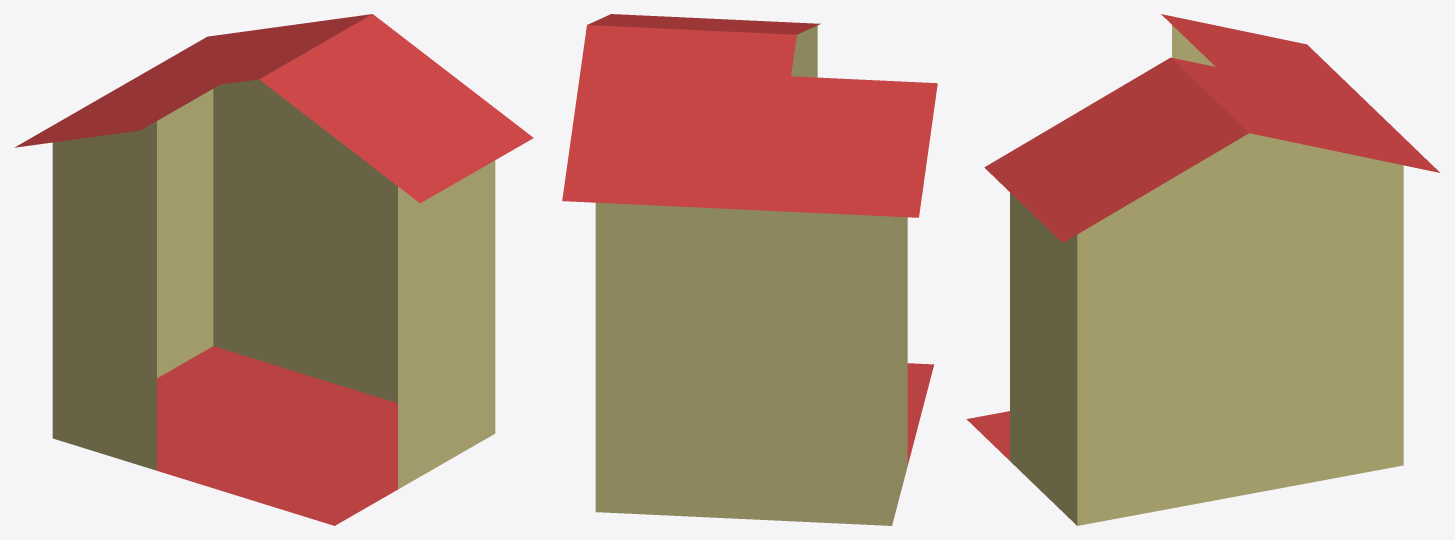
3 views of the same model, side by side, from view 1: azimuth 30°, elevation 25°; view 2: azimuth 150°, elevation 25°; view 3: azimuth 270°, elevation 25° (orthographic). The views are drawn at different scales.
Bounding box in the file's own units: 8.34 × 8.41 × 7.32.
